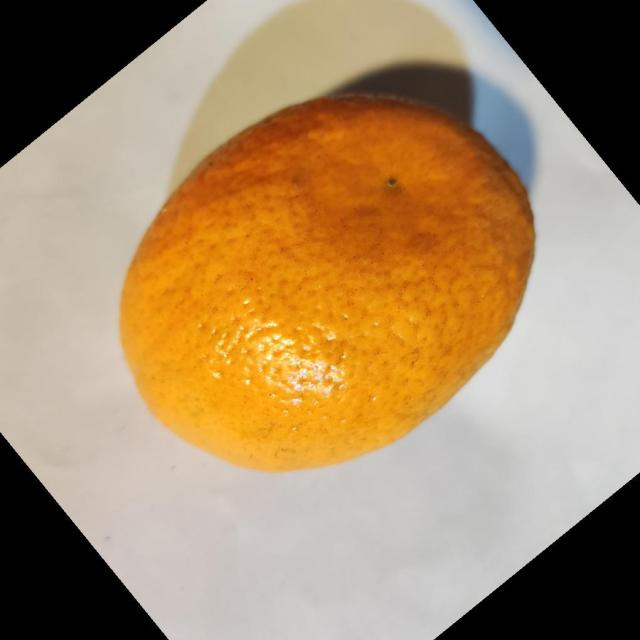fresh orange: (118, 90, 536, 473)
